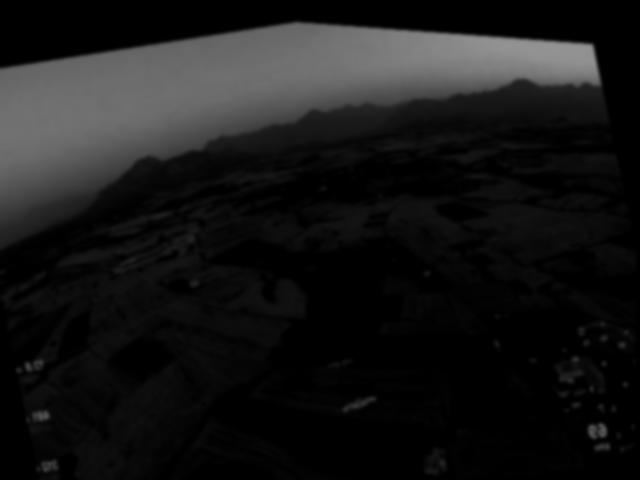hedef: (335, 381, 385, 419)
